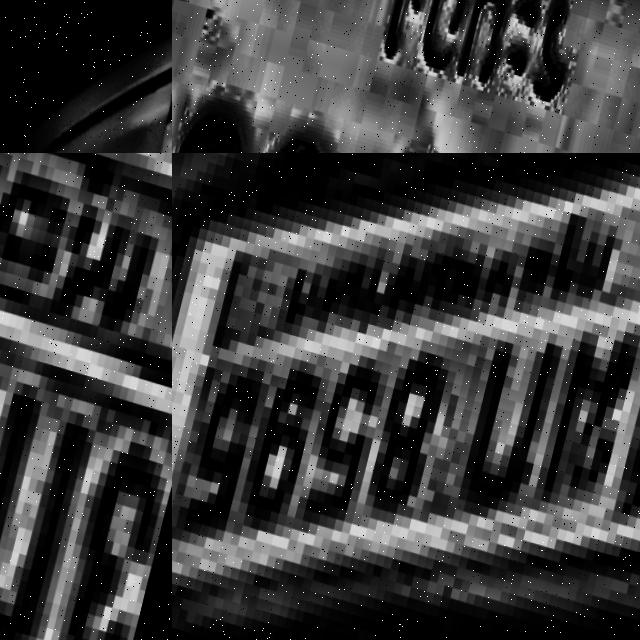license-plate: (172, 153, 640, 640), (0, 153, 172, 640), (172, 0, 640, 153), (126, 0, 172, 153)
